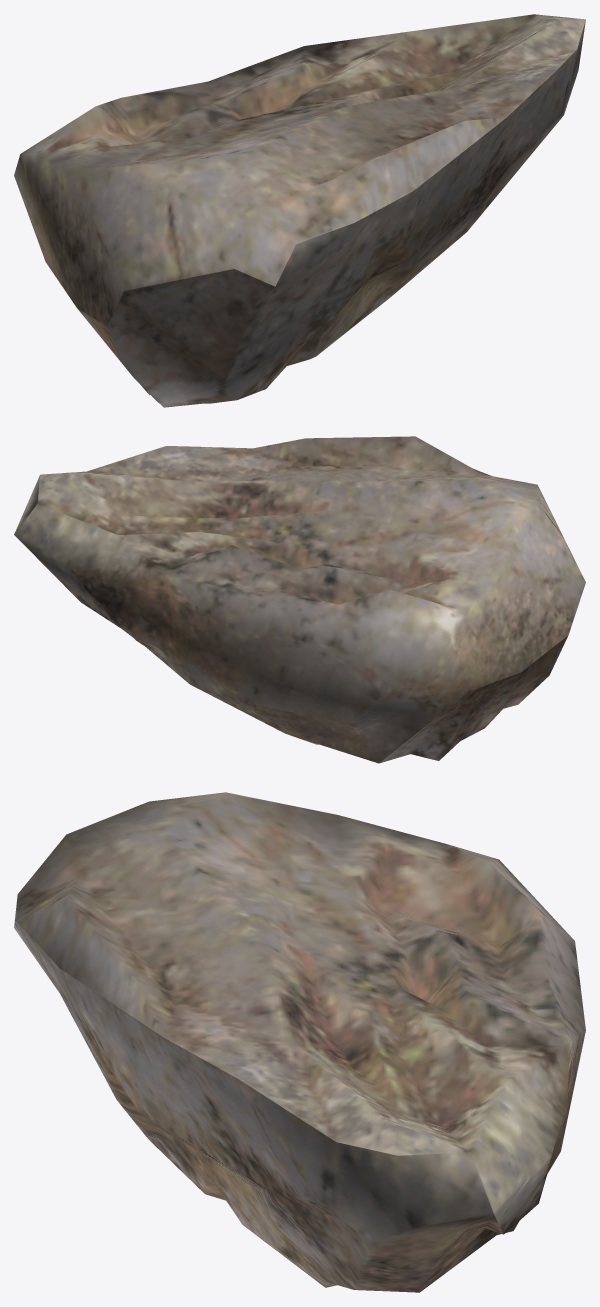
File: SM_Stone01.FBX
The picture shows the model from 3 angles, top to bottom: view 1: azimuth 30°, elevation 25°; view 2: azimuth 150°, elevation 25°; view 3: azimuth 270°, elevation 25°; orthographic projection. The views are drawn at different scales.
Parts seen in each view (by area): view 1: SM_Stone01; view 2: SM_Stone01; view 3: SM_Stone01.
Part boxes in pixels (bbox=[...]): SM_Stone01: bbox=[14, 14, 585, 407]; SM_Stone01: bbox=[14, 436, 585, 763]; SM_Stone01: bbox=[14, 792, 585, 1292].
Size of the model in its own units: 207 by 138 by 100.
